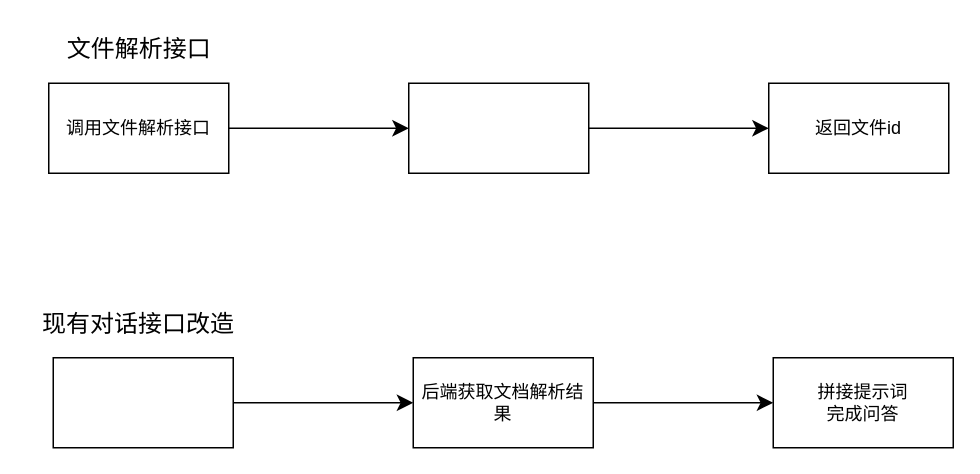
The diagram is 980 pixels wide and 474 high, and some of its shapes have lost their labels. The shapes that lost their labels are listed below. From the top down, each one's box as (x1, y1, x2, y2) in pixels, then its label:
(407, 82, 589, 173): 解析文件 并将数据落库
(52, 356, 233, 448): 携带fileId进行对话
